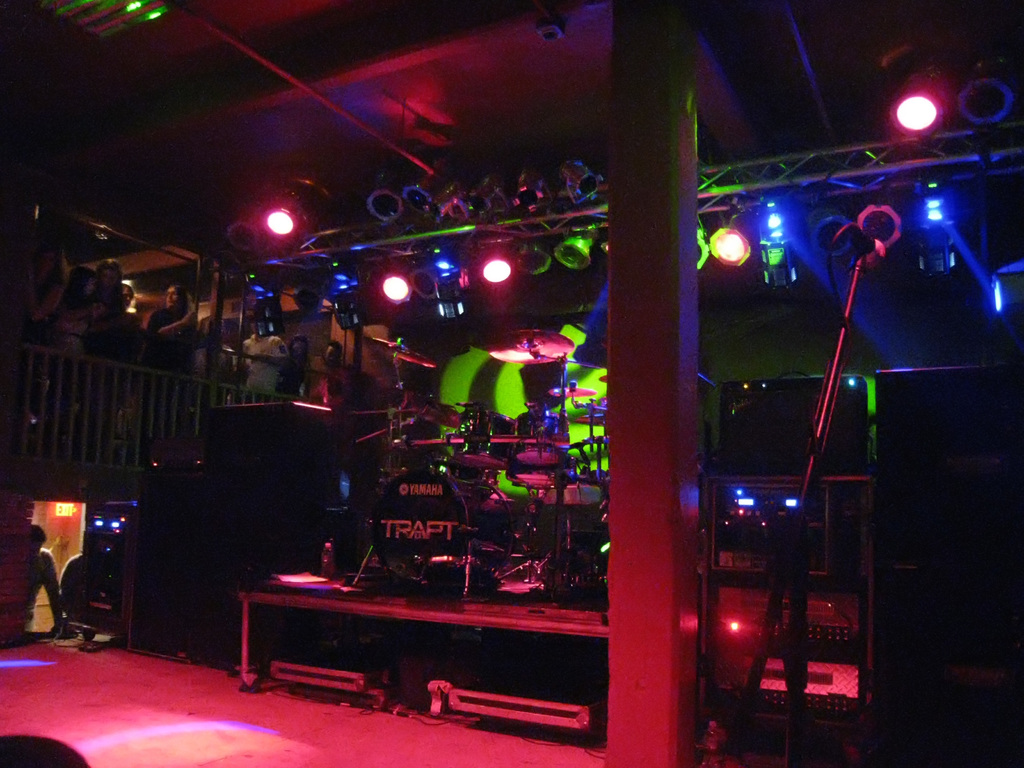Person: (23, 247, 353, 472), (29, 525, 66, 639)
